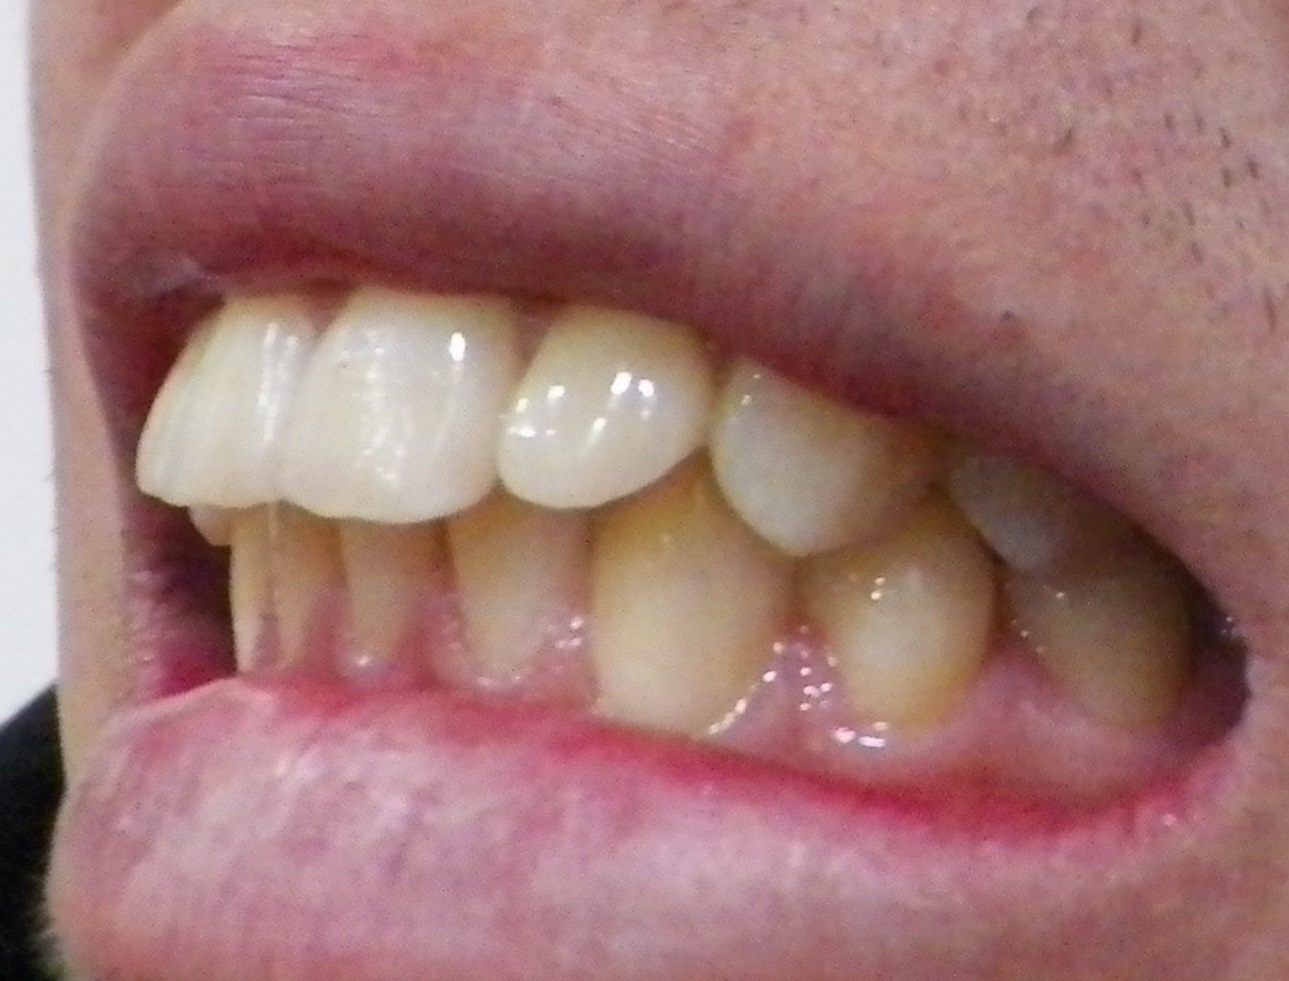boca: (142, 283, 1195, 721)
